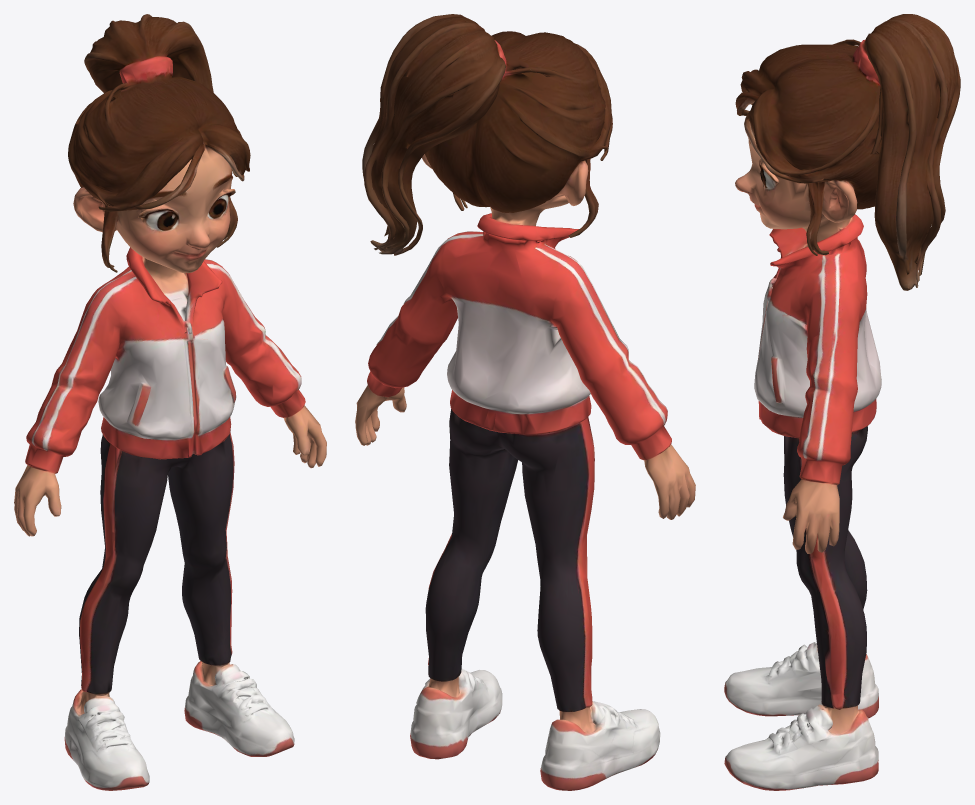
The model's file is girl.glb.
3 renders of one model, left to right at view 1: azimuth 30°, elevation 25°; view 2: azimuth 150°, elevation 25°; view 3: azimuth 270°, elevation 25°, orthographic. The views are drawn at different scales.
Parts seen in each view (by area): view 1: tripo_node_b0059df9-eecf-49b2-beb9-05a6ed702e31; view 2: tripo_node_b0059df9-eecf-49b2-beb9-05a6ed702e31; view 3: tripo_node_b0059df9-eecf-49b2-beb9-05a6ed702e31.
Boxes of the visible parts, bbox=[...] form: tripo_node_b0059df9-eecf-49b2-beb9-05a6ed702e31: bbox=[14, 14, 326, 790]; tripo_node_b0059df9-eecf-49b2-beb9-05a6ed702e31: bbox=[355, 14, 695, 790]; tripo_node_b0059df9-eecf-49b2-beb9-05a6ed702e31: bbox=[724, 14, 960, 790].
Bounding box in the file's own units: 0.4564 × 0.9998 × 0.2931.
Materials: 1 (1 with a texture image).
